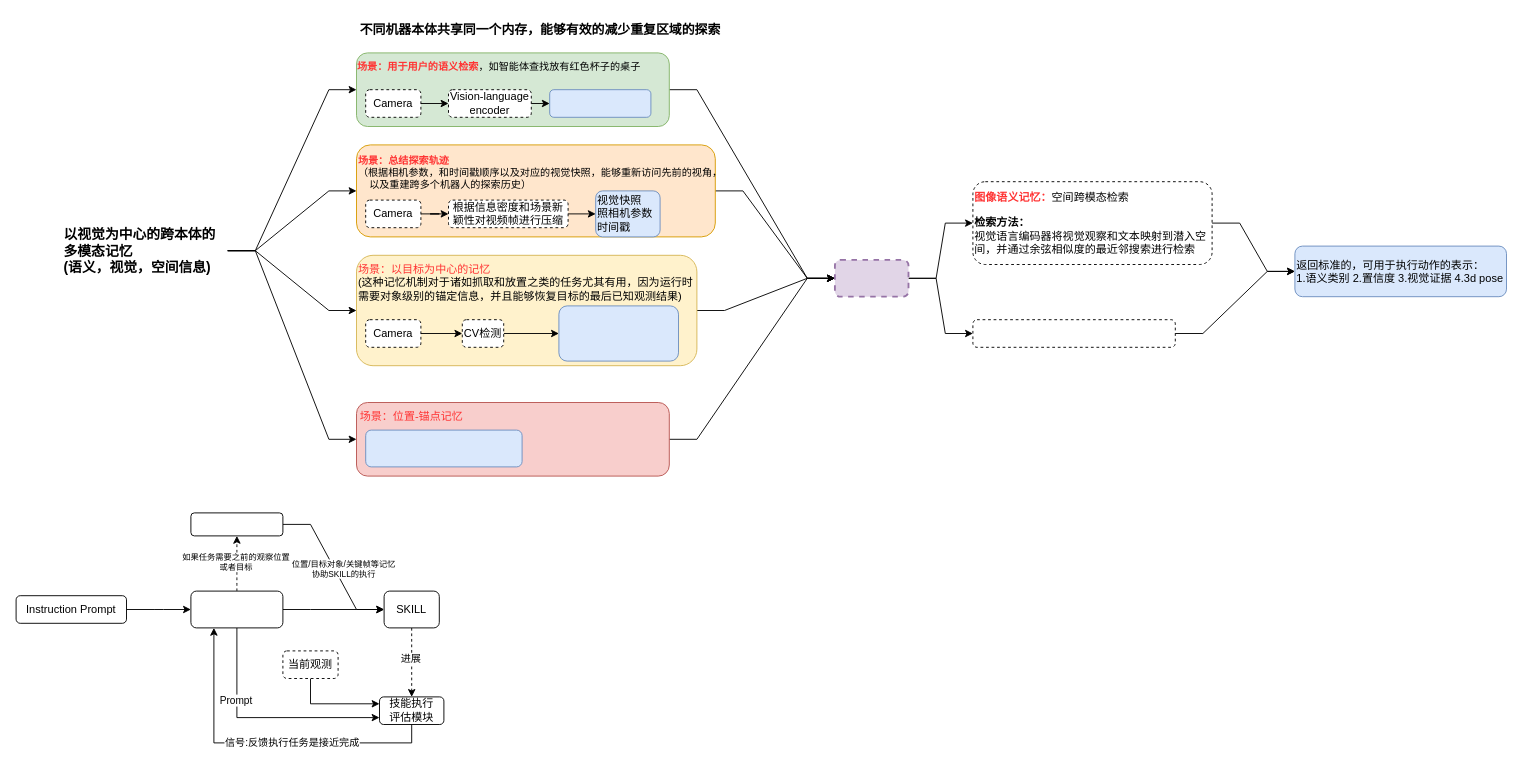
Some shapes in this 1523 by 766 pixel diagram are drawn without their labels. The shapes that lost their labels are listed below. From the top down, each one's centre as x and y in pixels, then its label:
the point at 600,103: 观测场景的图像特征
the point at 871,278: 检索机制
the point at 618,333: 识别到的对象信息: 1.类型标签 2.空间信息，eg:3d姿态
the point at 1073,333: 以对象为中心和以地点为锚点的记忆： 使用基于离散元数据的结构化检索
the point at 443,448: Ex:厨房-(坐标)，沙发-(坐标)
the point at 236,524: Memory
the point at 236,609: OpenClaw Runtime
